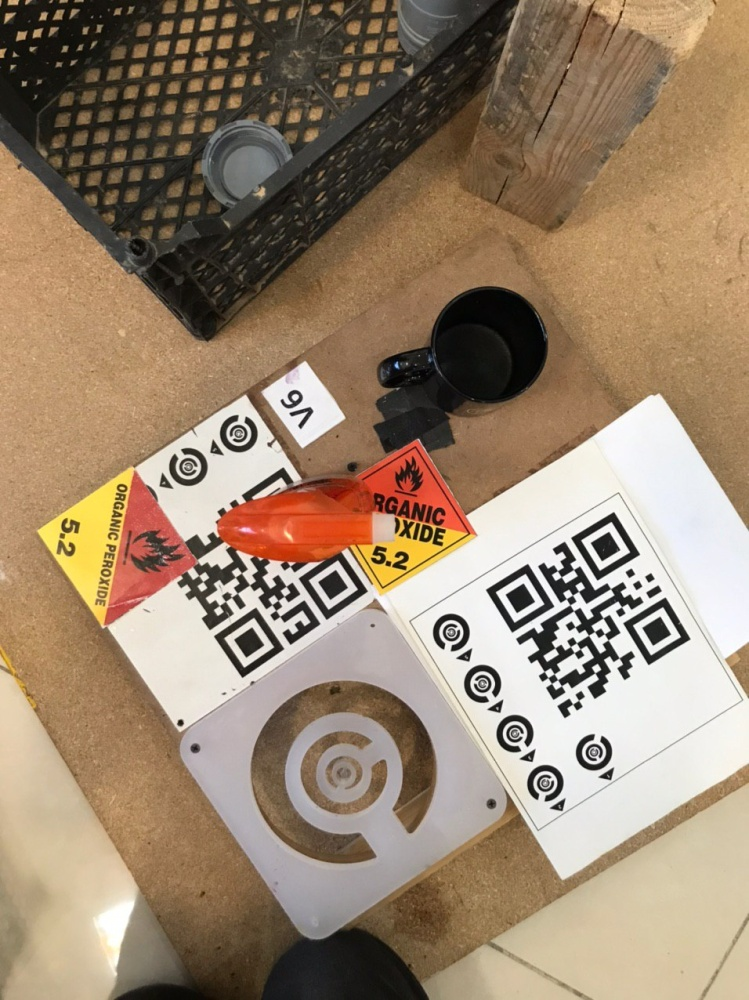organic-peroxide: (31, 468, 199, 636), (327, 442, 477, 592)
